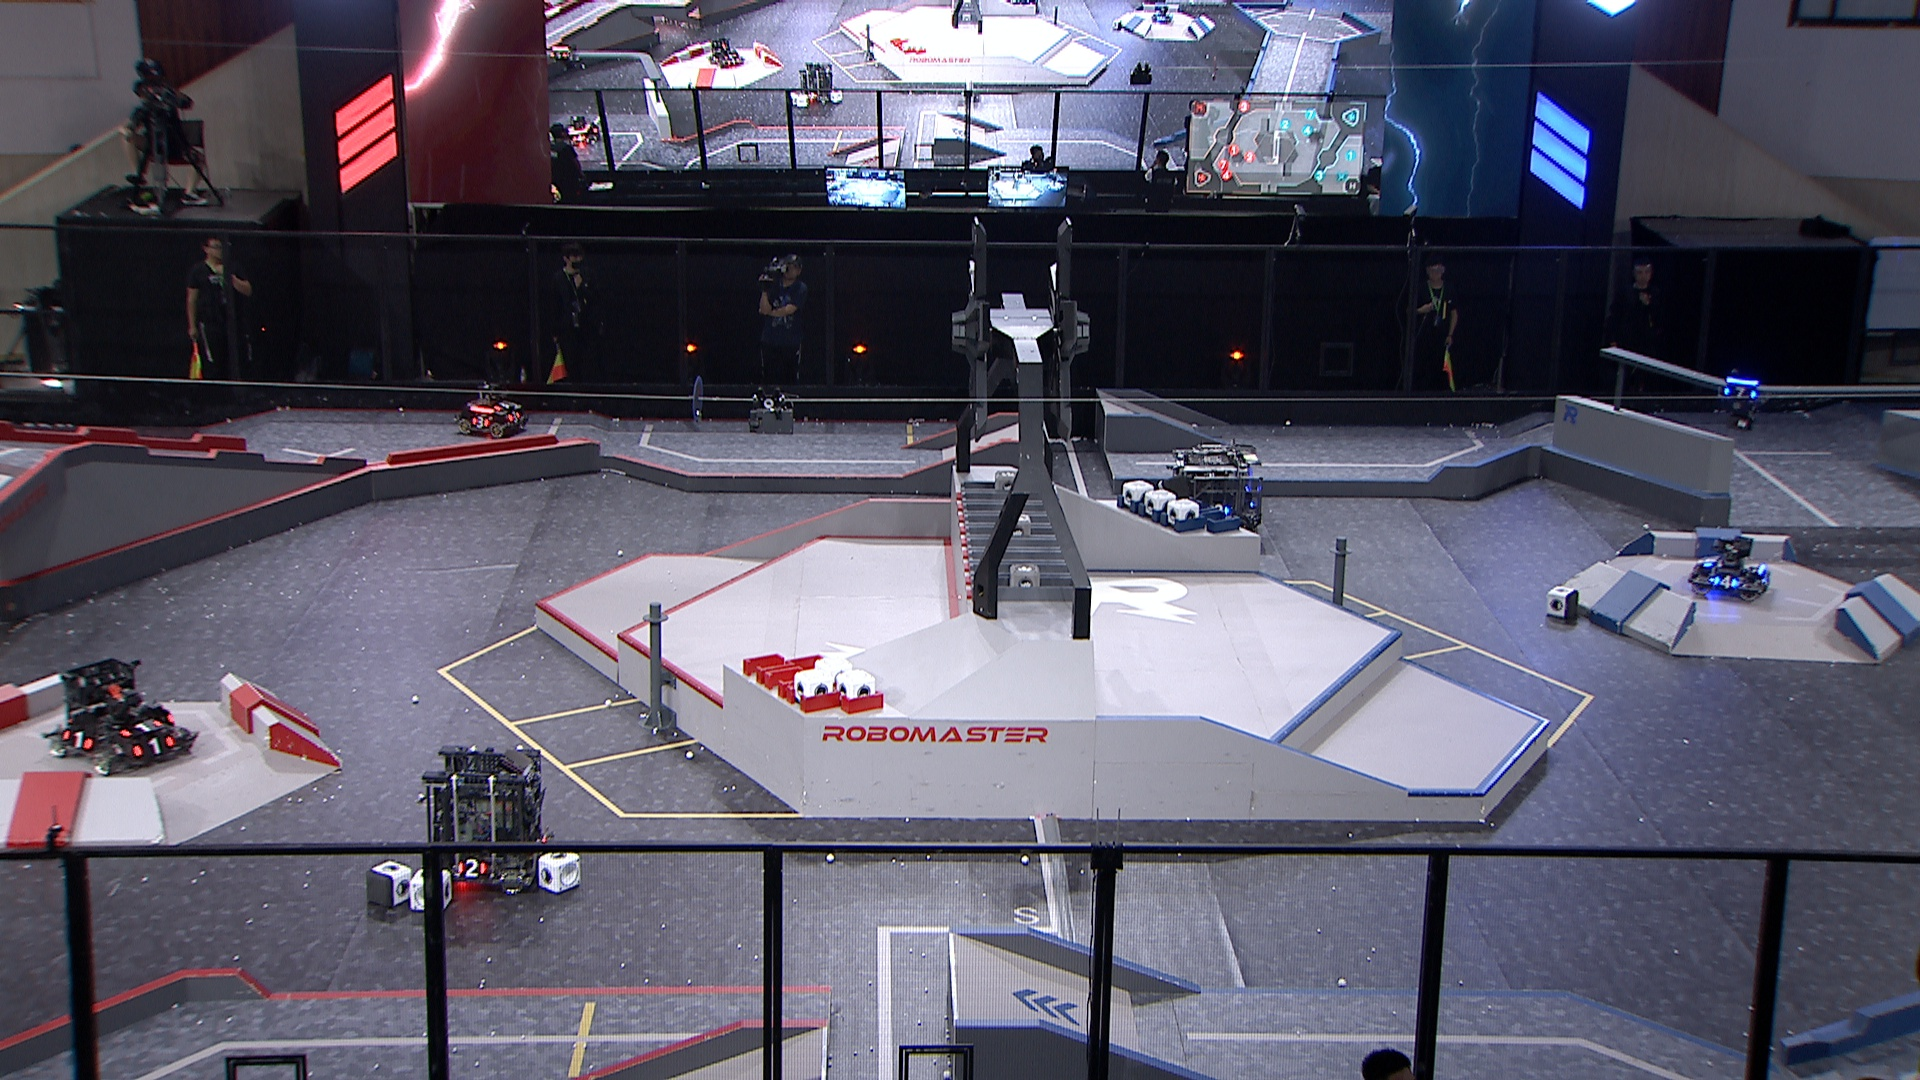armor: (121, 713, 162, 738), (135, 732, 174, 757), (62, 727, 91, 749), (458, 858, 489, 877), (1722, 386, 1756, 401), (1712, 574, 1741, 589), (1211, 504, 1233, 518), (1698, 553, 1716, 568), (506, 407, 520, 425), (495, 400, 513, 411), (472, 414, 487, 429)
car: (419, 738, 560, 894), (40, 655, 196, 774), (1168, 442, 1266, 545), (1687, 531, 1770, 607), (454, 377, 535, 436)
ignore: (789, 57, 845, 104), (560, 109, 608, 152), (699, 32, 749, 71), (545, 40, 576, 65), (1149, 3, 1174, 24)
watcher: (1718, 368, 1764, 434)
